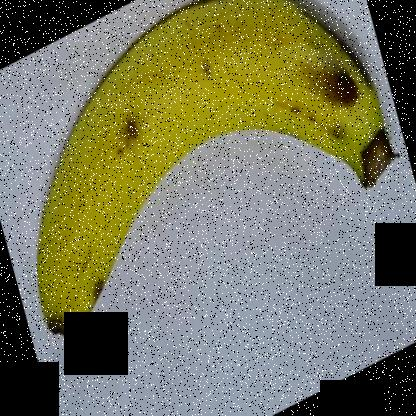freshripe: (20, 1, 406, 348)
